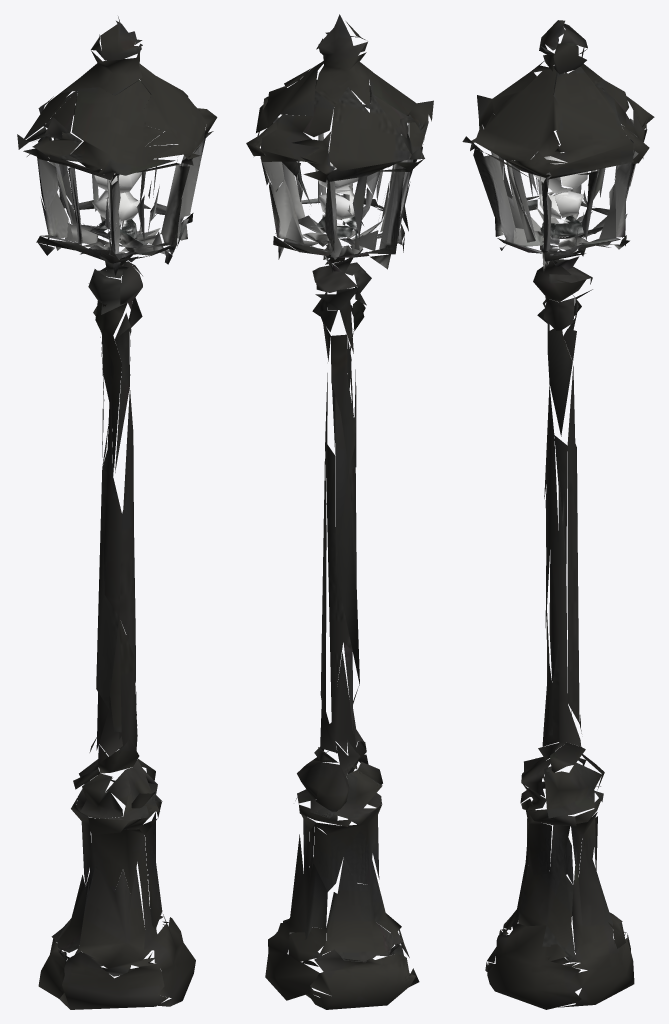
File: cp_gaslamp.glb
3 renders of one model, left to right at view 1: azimuth 30°, elevation 25°; view 2: azimuth 150°, elevation 25°; view 3: azimuth 270°, elevation 25°, orthographic.
Visible parts, largest first — view 1: tripo_node_eb8d982a-9450-405f-8a07-4f4504a45174; view 2: tripo_node_eb8d982a-9450-405f-8a07-4f4504a45174; view 3: tripo_node_eb8d982a-9450-405f-8a07-4f4504a45174.
Boxes of the visible parts, left/top/right/bottom form: tripo_node_eb8d982a-9450-405f-8a07-4f4504a45174: left=17, top=16, right=217, bottom=1009; tripo_node_eb8d982a-9450-405f-8a07-4f4504a45174: left=246, top=14, right=433, bottom=1009; tripo_node_eb8d982a-9450-405f-8a07-4f4504a45174: left=462, top=20, right=654, bottom=1009.
Bounding box in the file's own units: 0.1929 × 1 × 0.1813.
1 material, 1 textured.
